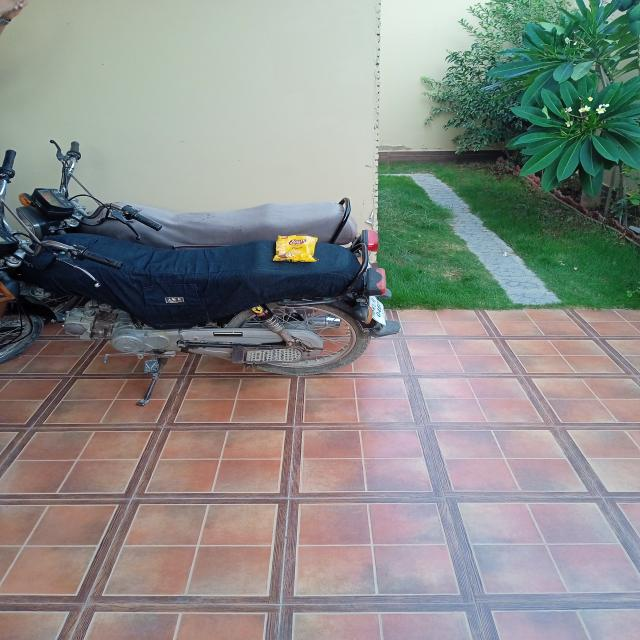Plastic: (273, 234, 320, 262)
